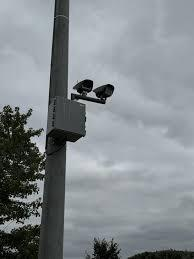Speed-Camera: (66, 71, 120, 110)
